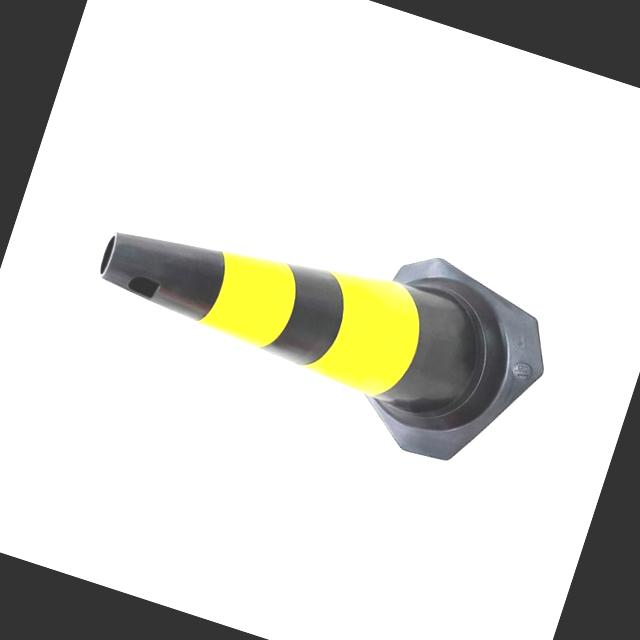cone: (74, 166, 568, 482)
